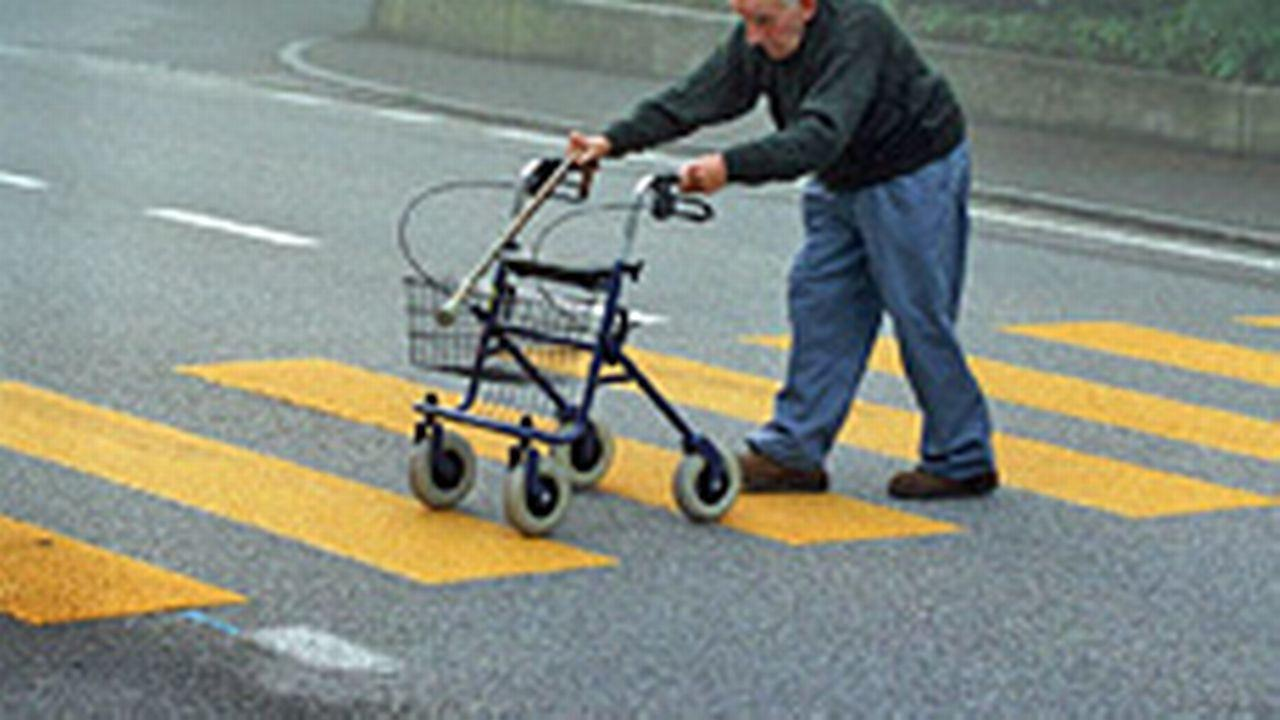walking_frame: (398, 0, 1001, 534)
